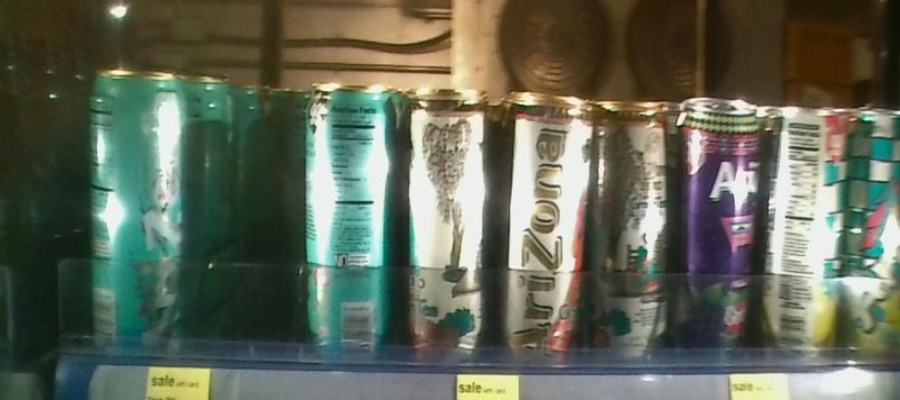bottle: (86, 65, 190, 347), (402, 69, 496, 363), (500, 72, 595, 361), (305, 69, 399, 355), (677, 90, 764, 352), (768, 98, 846, 356), (600, 89, 673, 352), (851, 96, 900, 366)
